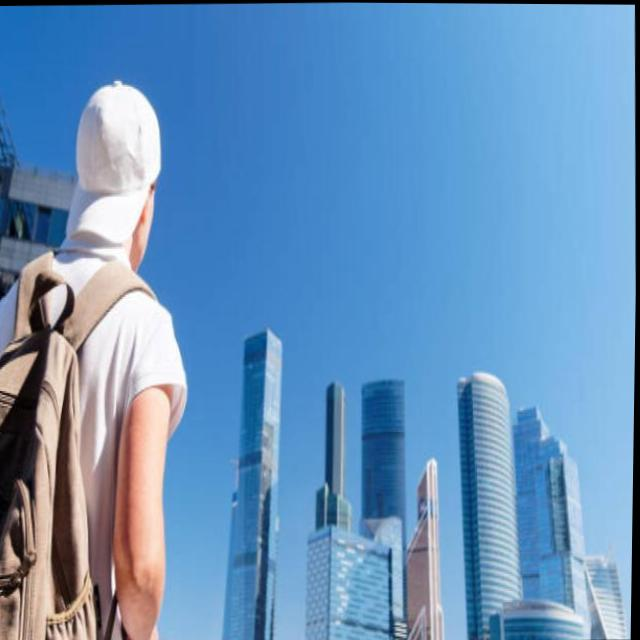no helmet: (62, 60, 185, 282)
